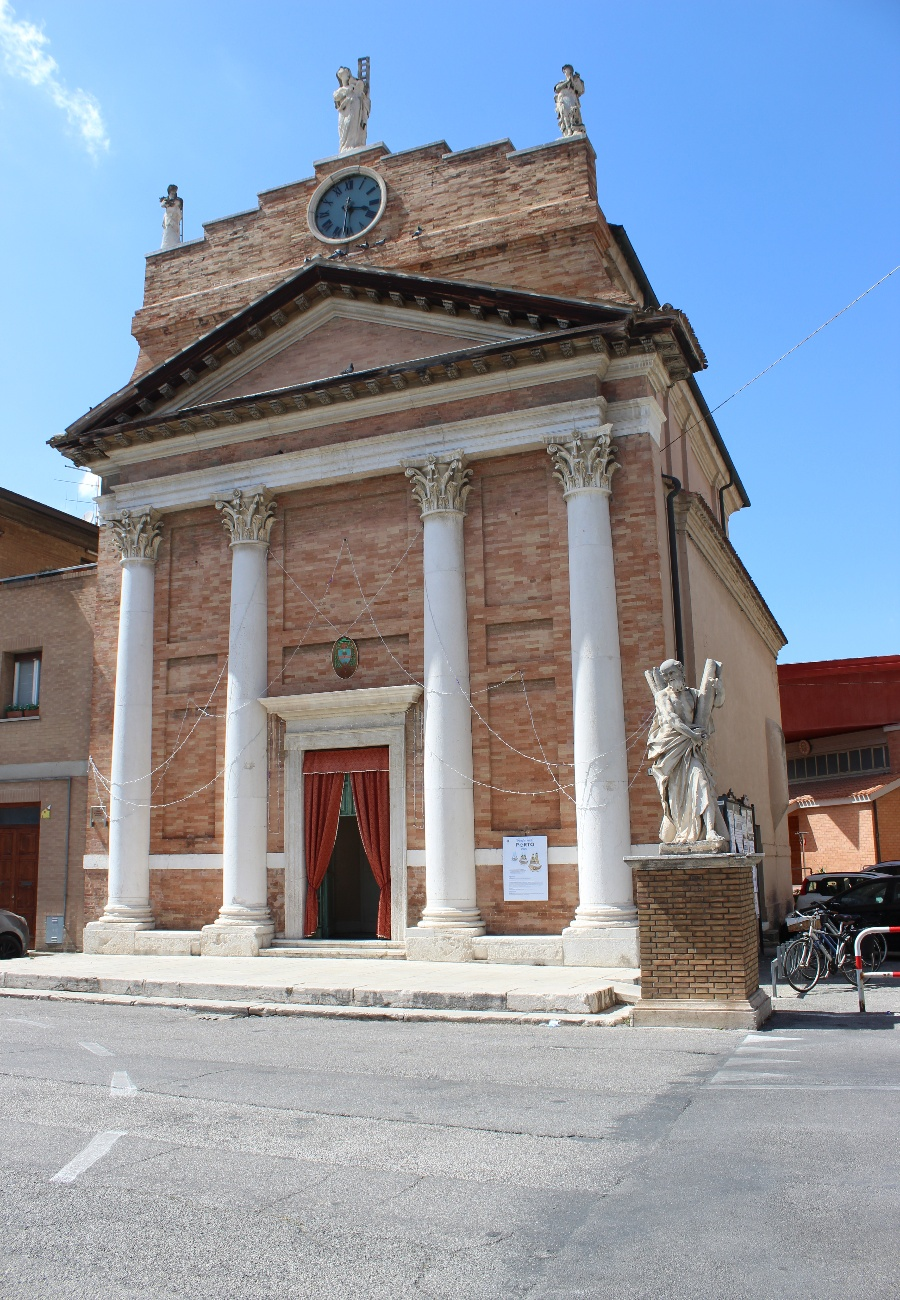Parrocchia Santa Maria: (90, 46, 724, 987)
